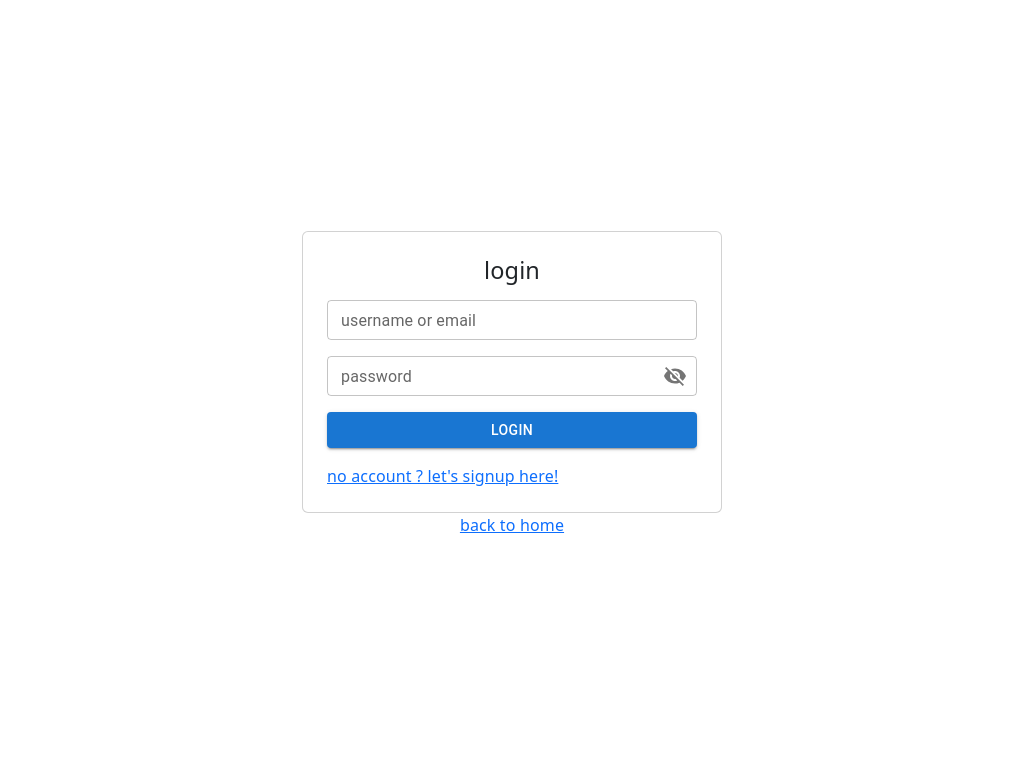
Test: login page › logs in successfully and shows success modal
Type "john@example.com" into the field labelled "username or email" at (512, 320), box x1=327 y1=300 x2=697 y2=340
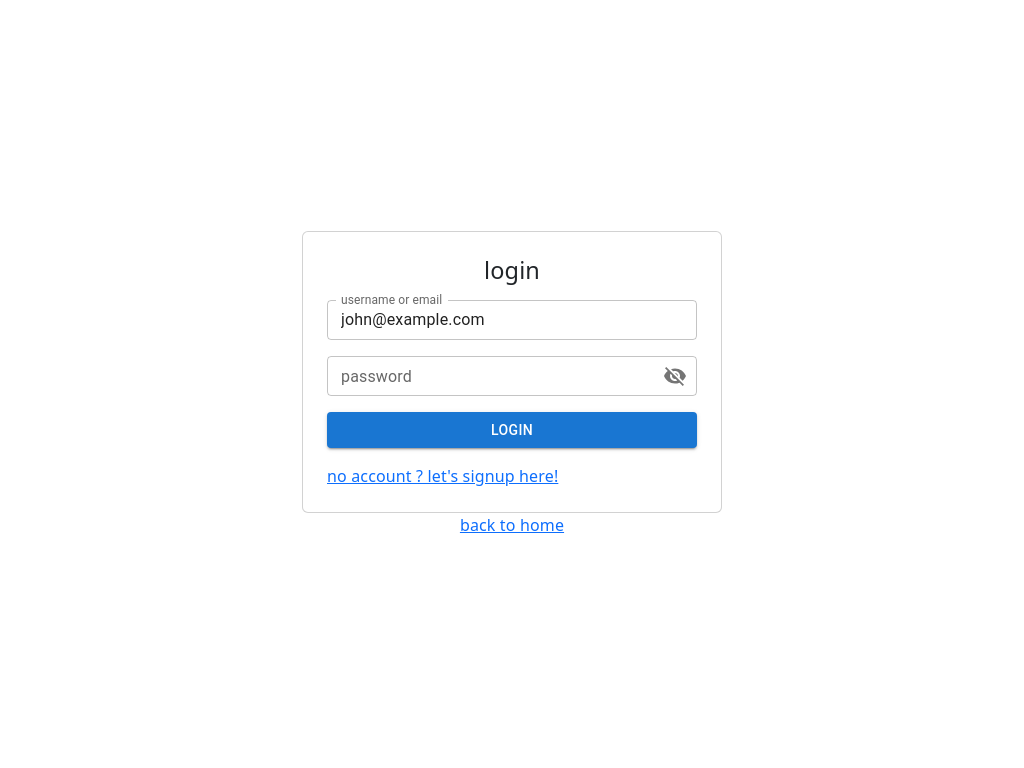
Type "1234567890" into the password field labelled "password" at (487, 376), box x1=327 y1=356 x2=647 y2=396
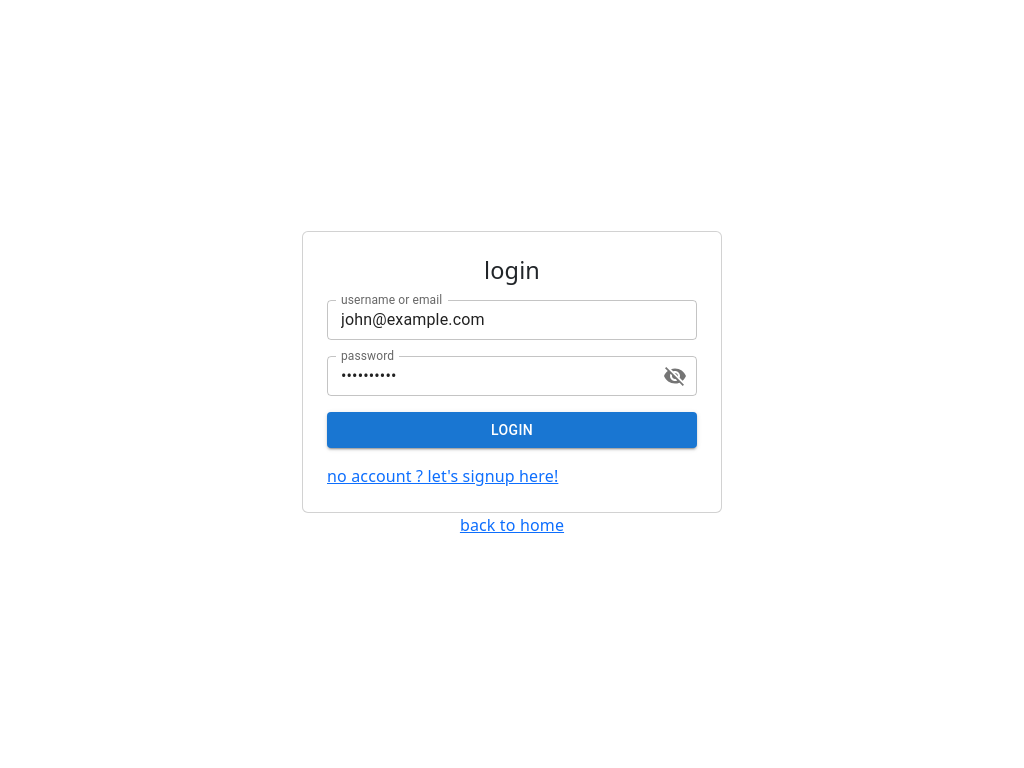
Click the button "login" at (512, 430), box x1=327 y1=412 x2=697 y2=448
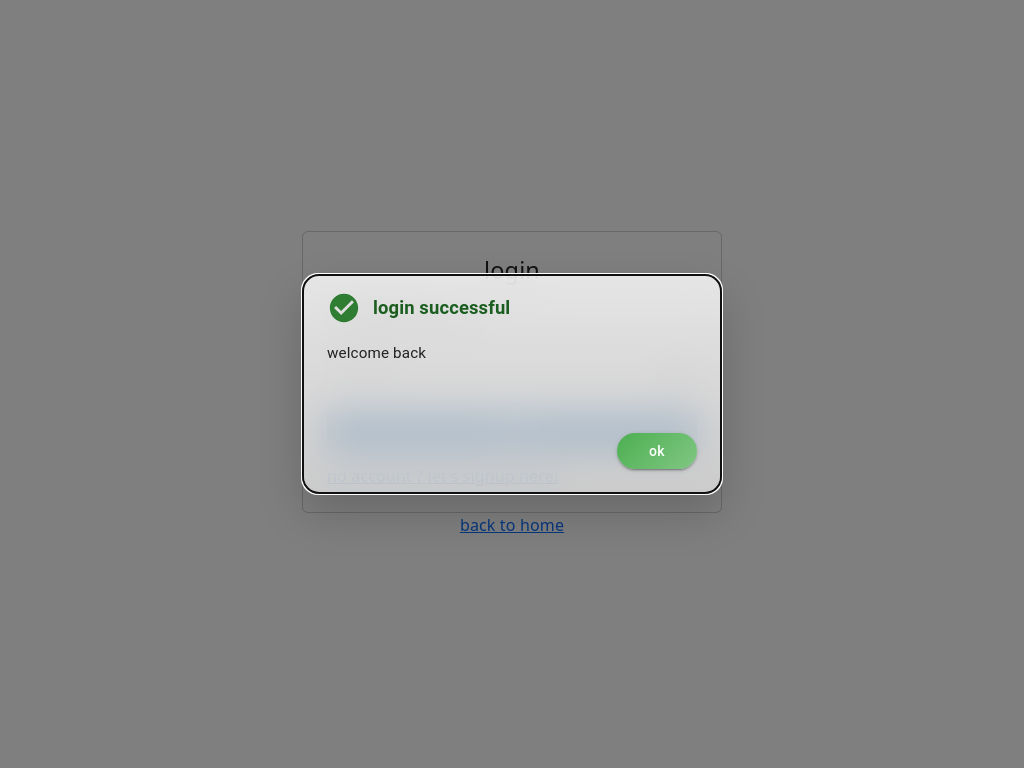
Expected: the heading "login successful" is shown, x1=327 y1=291 x2=510 y2=325
Expected: the text "welcome back" is shown, x1=327 y1=344 x2=426 y2=362
